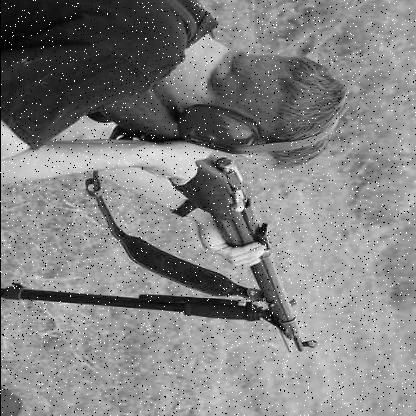rifle: (86, 75, 334, 370)
